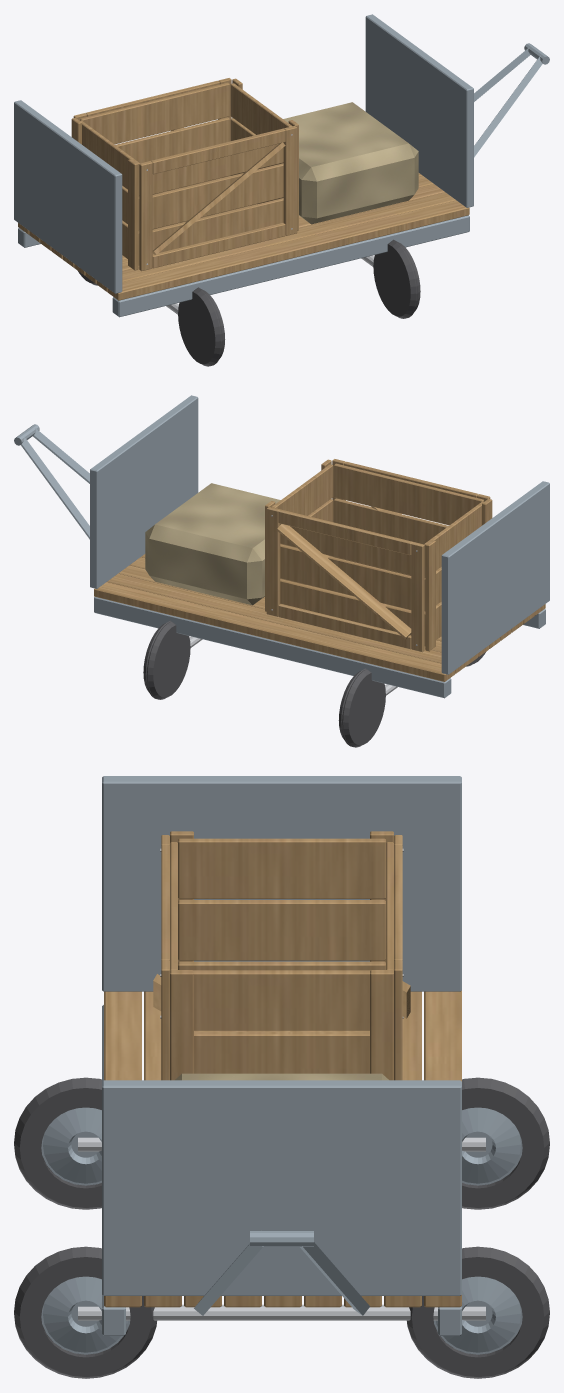
File: carrinho_plataforma.glb
3 views of the same model, one above another, from view 1: azimuth 30°, elevation 25°; view 2: azimuth 150°, elevation 25°; view 3: azimuth 270°, elevation 25° (orthographic). The views are drawn at different scales.
Parts seen in each view (by area): view 1: carrinho_plataforma_madeira_crua, carrinho_plataforma_aco_pintado, carrinho_plataforma_lona_crua, carrinho_plataforma_borracha; view 2: carrinho_plataforma_madeira_crua, carrinho_plataforma_aco_pintado, carrinho_plataforma_lona_crua, carrinho_plataforma_borracha; view 3: carrinho_plataforma_aco_pintado, carrinho_plataforma_madeira_crua, carrinho_plataforma_borracha, carrinho_plataforma_aco, carrinho_plataforma_lona_crua.
Boxes of the visible parts, x1,y1,x2,y2 form: carrinho_plataforma_madeira_crua: [18, 78, 469, 300]; carrinho_plataforma_aco_pintado: [14, 14, 549, 317]; carrinho_plataforma_lona_crua: [283, 102, 418, 224]; carrinho_plataforma_borracha: [78, 239, 420, 366]; carrinho_plataforma_madeira_crua: [94, 459, 545, 681]; carrinho_plataforma_aco_pintado: [14, 395, 549, 698]; carrinho_plataforma_lona_crua: [145, 483, 280, 605]; carrinho_plataforma_borracha: [143, 620, 485, 747]; carrinho_plataforma_aco_pintado: [41, 776, 522, 1354]; carrinho_plataforma_madeira_crua: [104, 831, 461, 1307]; carrinho_plataforma_borracha: [14, 1077, 549, 1378]; carrinho_plataforma_aco: [78, 848, 485, 1320]; carrinho_plataforma_lona_crua: [175, 1073, 388, 1080].
Bounding box in the file's own units: 2.44 × 1 × 1.34.
5 materials, 2 textured.
